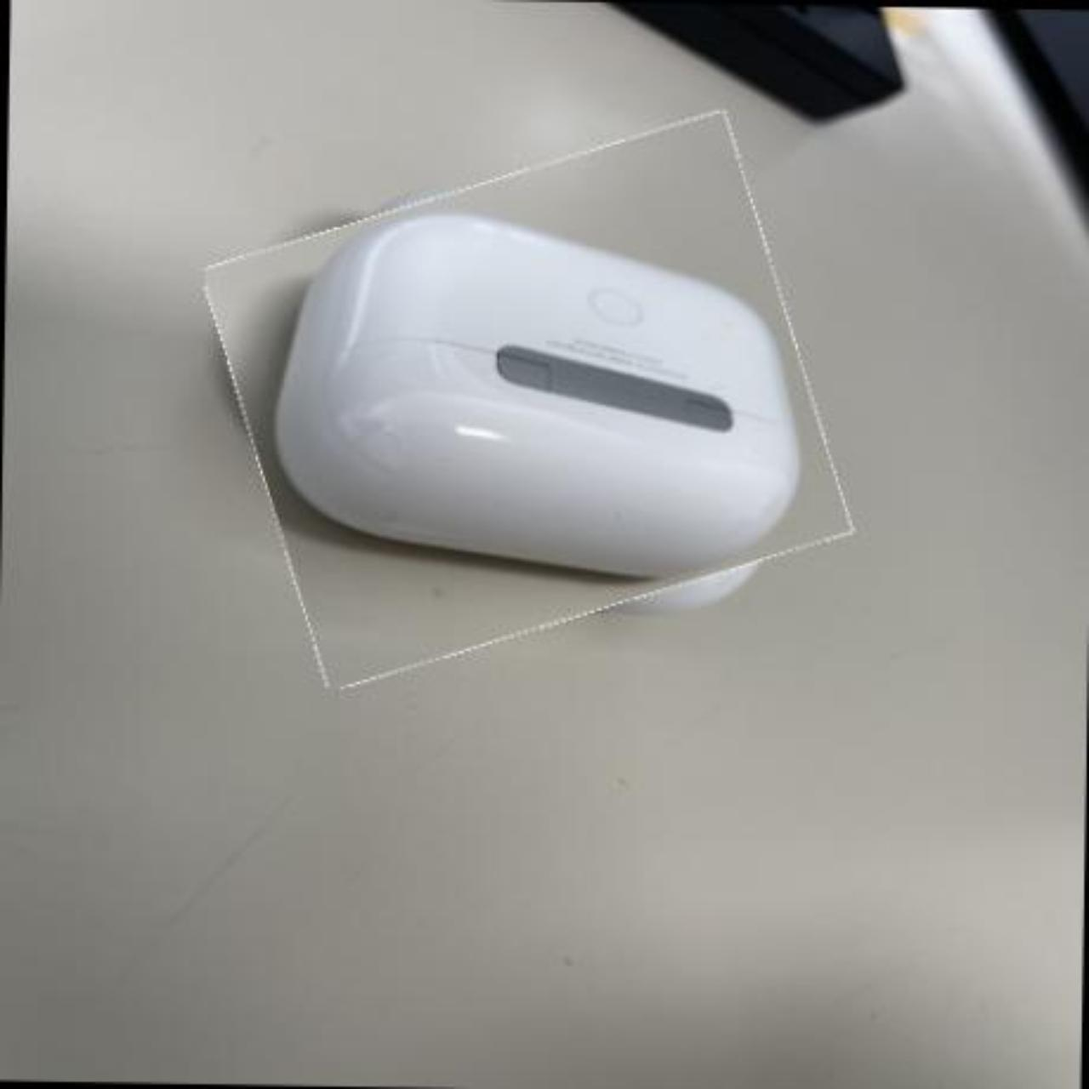AirPods: (222, 139, 831, 661)
